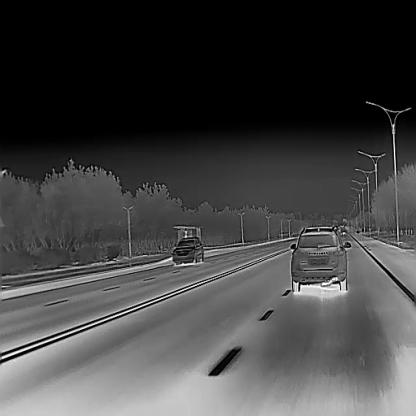car: (289, 225, 351, 291), (172, 236, 204, 264), (340, 228, 346, 234)
